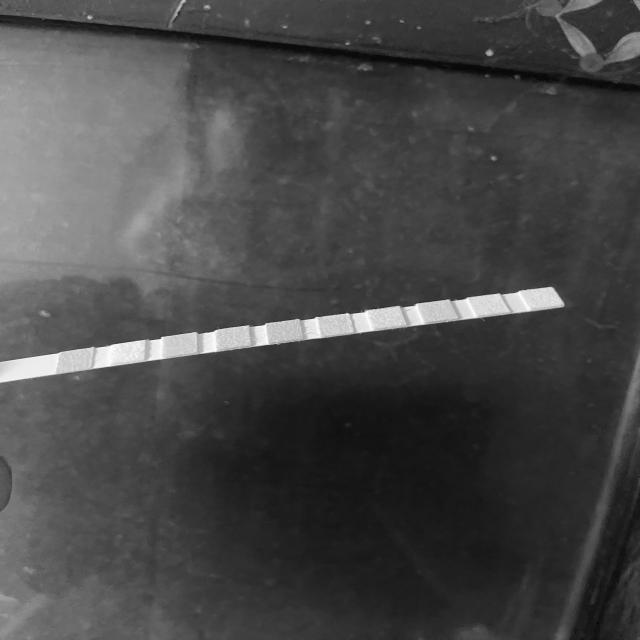Bilirubin: (112, 345, 143, 360)
Blood: (268, 323, 300, 338)
Glucose: (62, 353, 90, 369)
Ketone: (164, 337, 196, 352)
Leukocytes: (532, 290, 554, 307)
Nitrite: (476, 297, 500, 312)
Protein: (373, 310, 400, 326)
SpGravity: (216, 331, 249, 346)
Urobilinogen: (425, 302, 450, 320)
background: (0, 0, 640, 640)
pH: (323, 317, 349, 333)
strip: (0, 287, 566, 383)
